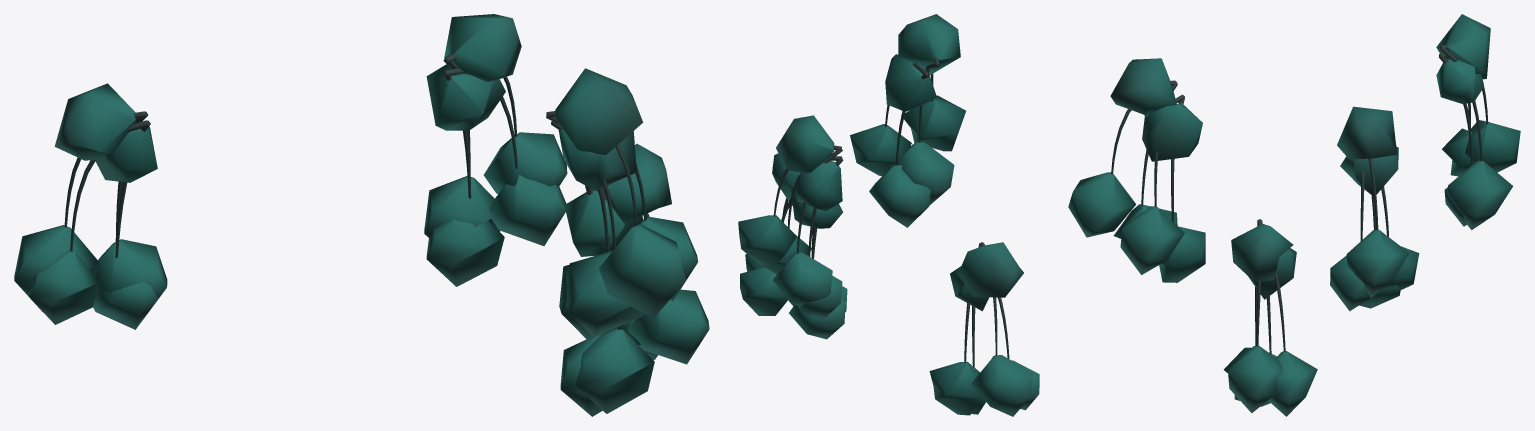
3 views of the same model, side by side, from view 1: azimuth 30°, elevation 25°; view 2: azimuth 150°, elevation 25°; view 3: azimuth 270°, elevation 25° (orthographic). The views are drawn at different scales.
Parts seen in each view (by area): view 1: fruit.001; view 2: fruit.001; view 3: fruit.001.
Boxes of the visible parts, left/top/right/bottom form: fruit.001: left=14, top=14, right=709, bottom=416; fruit.001: left=738, top=14, right=1039, bottom=416; fruit.001: left=1068, top=14, right=1520, bottom=416.
Size of the model in its own units: 0.5 by 0.3616 by 0.4608.
